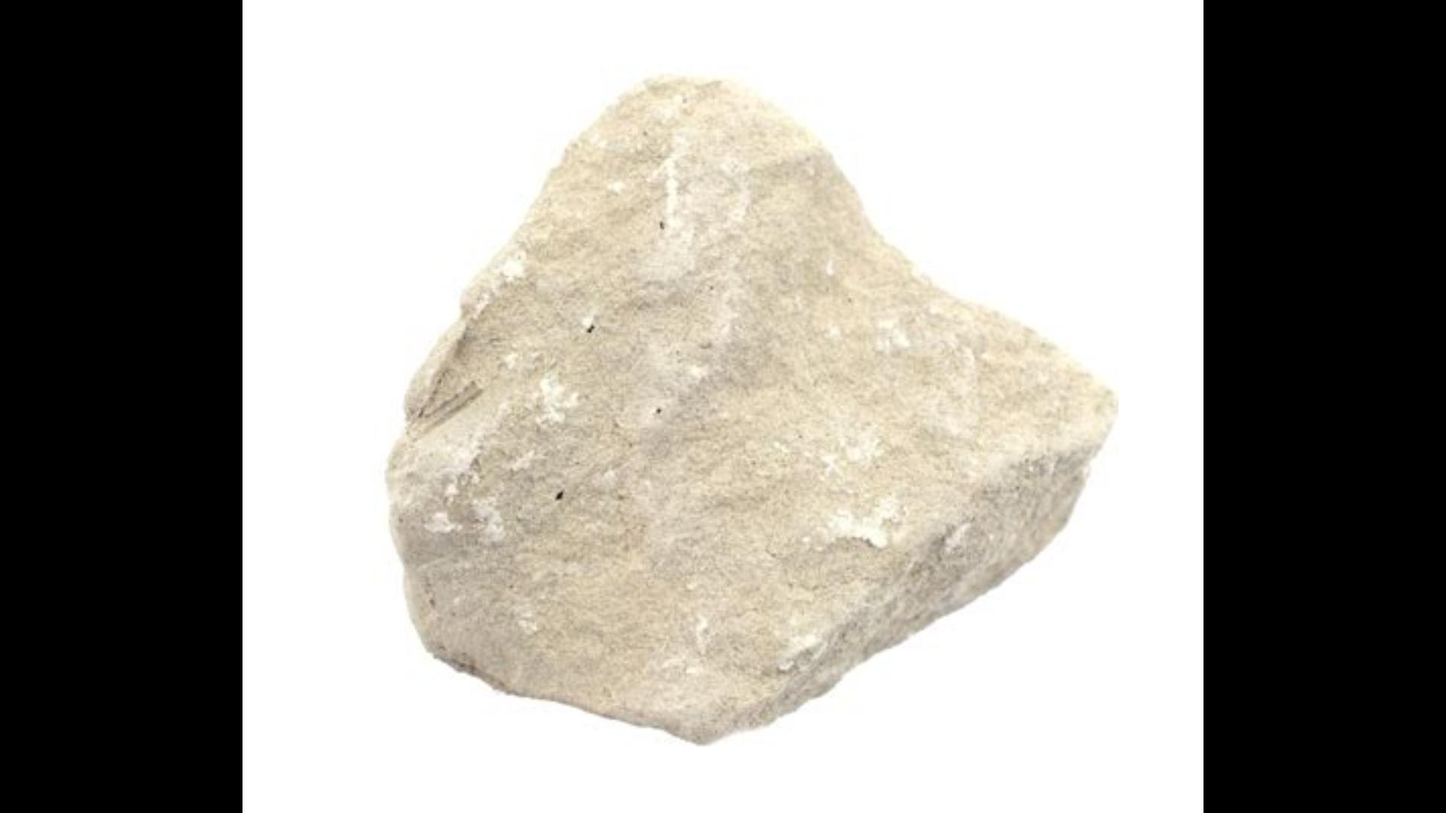rock: (389, 79, 1115, 742)
